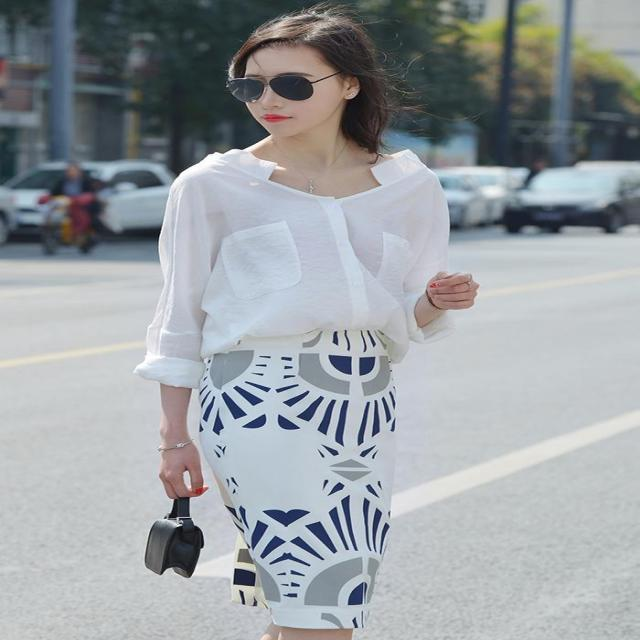long sleeve top: (133, 149, 457, 389)
skirt: (205, 322, 397, 629)
